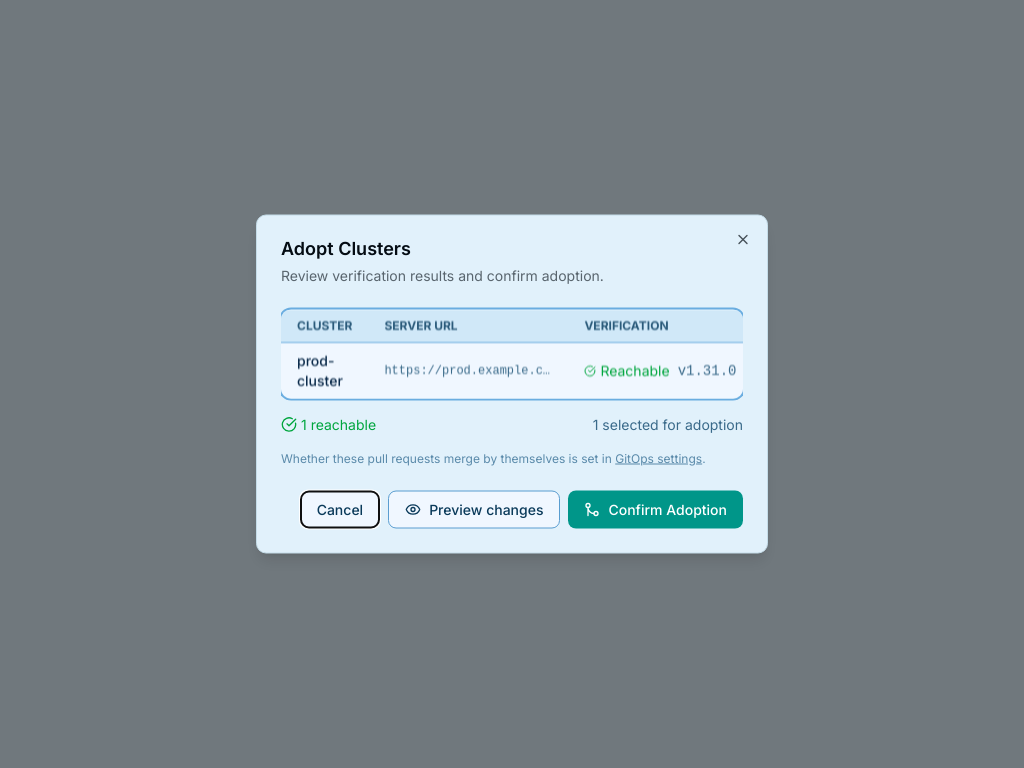
Test: AdoptClustersDialog › episode 3 dry run: what adopt shows and asks › finding 4: a preview that fails with a plain error still says so
What coordinates should you click on to do the following:
click the button "Preview changes"
I would click on:
 (474, 510)
Its box is [388, 490, 560, 528].
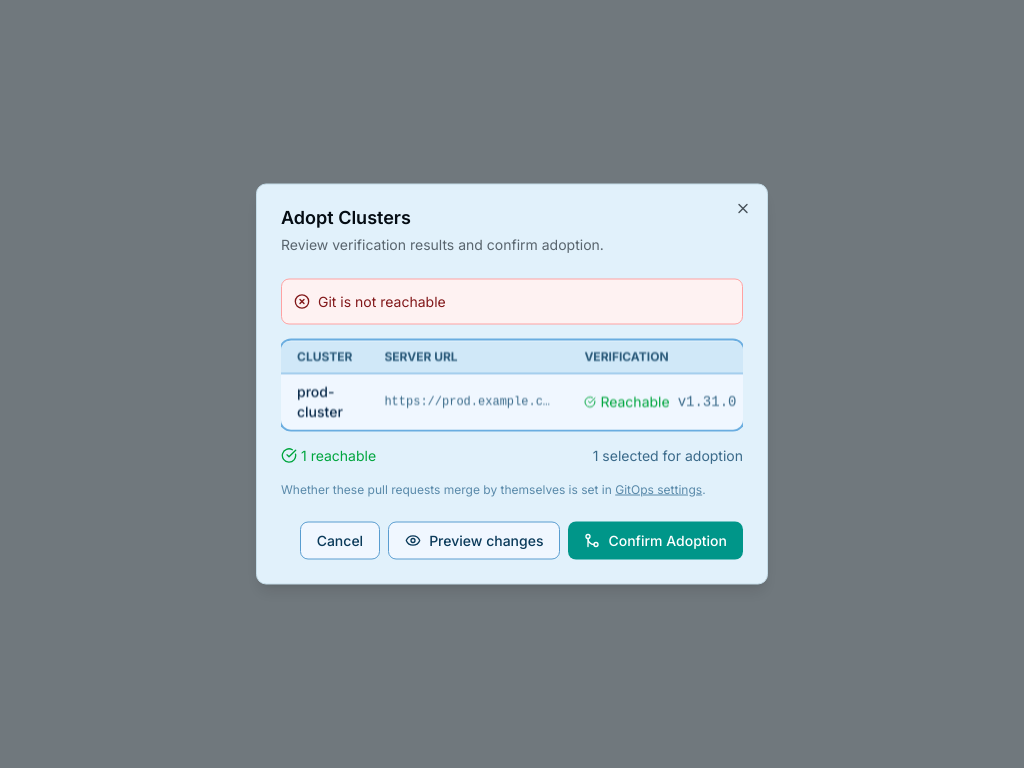
Now the text "Git is not reachable" is shown, box [318, 292, 446, 312]
